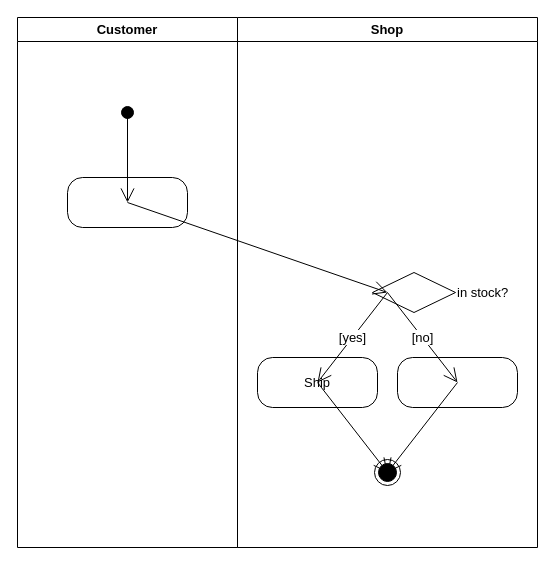
Image size: 555x565. Some labels were removed from this diagram. The centre of each missing label's shape, as x and y in pixels:
"Place order" goes at point 127,202.
"Refund" goes at point 457,382.
